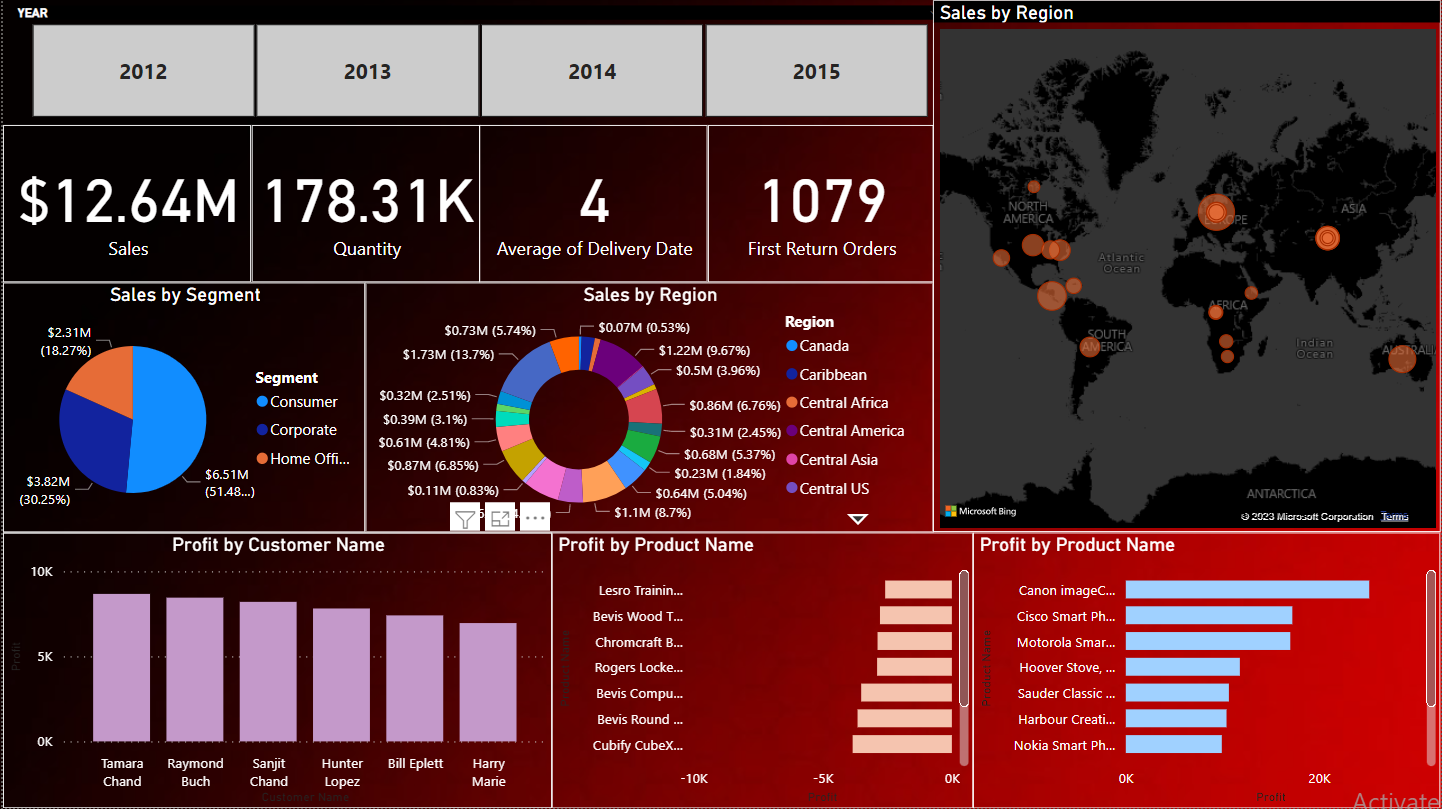

Layout of this report page (visuals, bound fields, positions):
{"tool":"powerbi","page":{"name":"Page 1","canvas":[1280,720],"ordinal":0},"visuals":[{"type":"card","fields":{"Values":["Orders.Sales"]},"box":[0,111.2,221.1,140.1],"z":0},{"type":"card","fields":{"Values":["Orders.Quantity"]},"box":[221.1,111.2,203.3,140.1],"z":1000},{"type":"card","fields":{"Values":["Orders.Delivery Date"]},"box":[424.4,111.2,203.3,140.1],"z":2000},{"type":"slicer","fields":{"Values":["Orders.Year"]},"box":[0,0,847.4,111.2],"z":3000},{"type":"card","fields":{"Values":["Returns.First Return Orders"]},"box":[627.6,111.2,200.5,140.1],"z":4000},{"type":"map","fields":{"Category":["Orders.Region"],"Size":["Orders.Sales"]},"box":[828.2,0,451.8,473.8],"z":5000},{"type":"clusteredBarChart","fields":{"Y":["Orders.Profit"],"Category":["Orders.Product Name"]},"box":[863.9,473.8,416.1,245.8],"z":6000},{"type":"clusteredBarChart","fields":{"Y":["Orders.Profit"],"Category":["Orders.Product Name"]},"box":[488.9,473.8,374.9,245.8],"z":7000},{"type":"pieChart","fields":{"Y":["Orders.Sales"],"Category":["Orders.Segment"]},"box":[0,251.3,322.7,222.5],"z":8000},{"type":"donutChart","fields":{"Y":["Orders.Sales"],"Series":["Orders.Region"]},"box":[322.7,251.3,505.4,222.5],"z":9000},{"type":"clusteredColumnChart","fields":{"Category":["Orders.Customer Name"],"Y":["Orders.Profit"]},"box":[0,473.8,488.9,245.8],"z":10000}]}

Visuals, with their boxes in screenshot pixels (x1, y1, x2, y2), scaled from the page's 1280x720 canvas onto the 1442x809 screenshot:
card - Orders.Sales: crop(0, 125, 249, 282)
card - Orders.Quantity: crop(249, 125, 478, 282)
card - Orders.Delivery Date: crop(478, 125, 707, 282)
slicer - Orders.Year: crop(0, 0, 955, 125)
card - Returns.First Return Orders: crop(707, 125, 933, 282)
map - Orders.Region x Orders.Sales: crop(933, 0, 1441, 532)
clusteredBarChart - Orders.Profit x Orders.Product Name: crop(973, 532, 1441, 808)
clusteredBarChart - Orders.Profit x Orders.Product Name: crop(551, 532, 973, 808)
pieChart - Orders.Sales x Orders.Segment: crop(0, 282, 364, 532)
donutChart - Orders.Sales x Orders.Region: crop(364, 282, 933, 532)
clusteredColumnChart - Orders.Customer Name x Orders.Profit: crop(0, 532, 551, 808)
